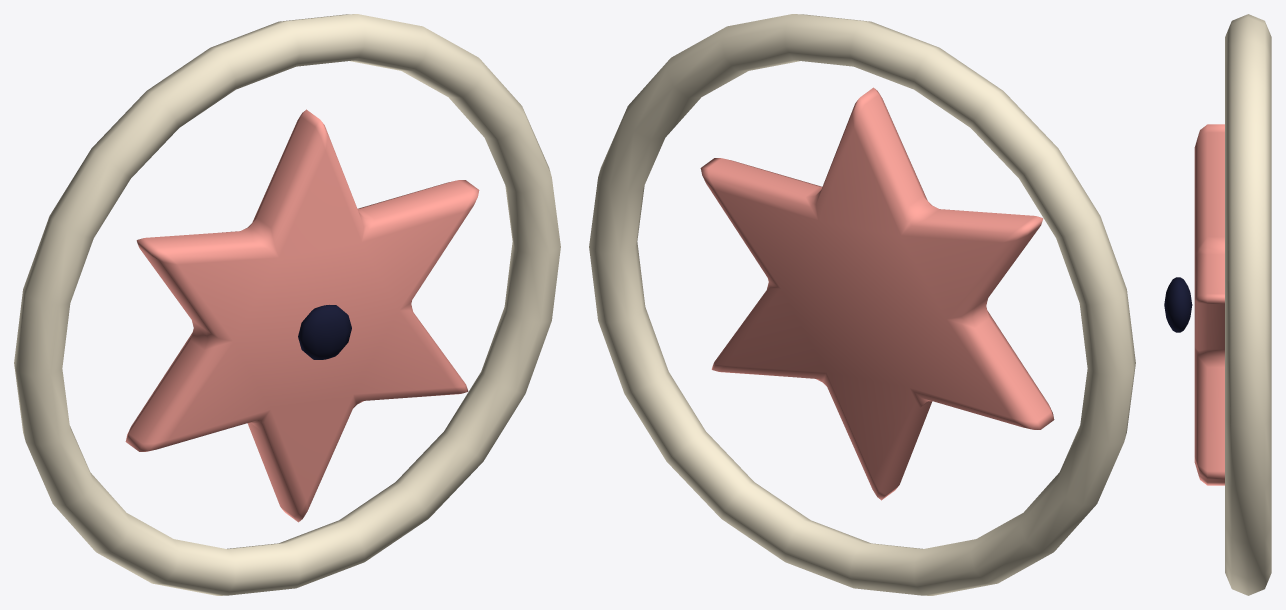
Rendered from r062_dungeon_puzzle_symbols_symbol_10.glb.
The picture shows the model from 3 angles, left to right: view 1: azimuth 30°, elevation 25°; view 2: azimuth 150°, elevation 25°; view 3: azimuth 270°, elevation 25°; orthographic projection. The views are drawn at different scales.
Parts seen in each view (by area): view 1: r062_dungeon_puzzle_symbols_symbol_10.001; view 2: r062_dungeon_puzzle_symbols_symbol_10.001; view 3: r062_dungeon_puzzle_symbols_symbol_10.001.
Boxes of the visible parts, x1,y1,x2,y2 form: r062_dungeon_puzzle_symbols_symbol_10.001: (14,14,560,595); r062_dungeon_puzzle_symbols_symbol_10.001: (589,14,1135,595); r062_dungeon_puzzle_symbols_symbol_10.001: (1164,14,1271,595).
Size of the model in its own units: 2.5 by 2.5 by 0.46.
